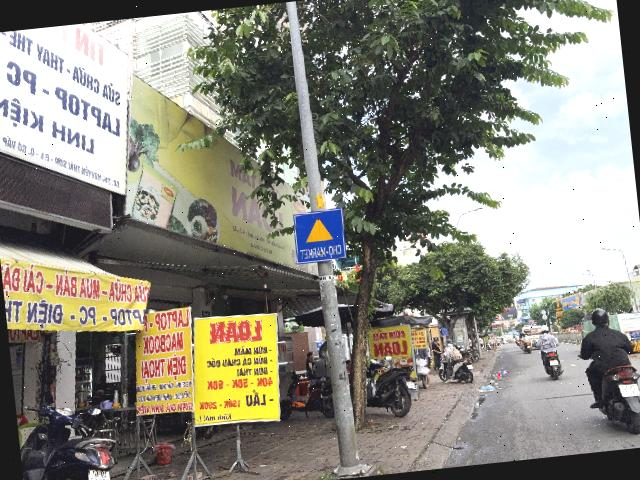khu-vuc-cho-phia-truoc: (292, 207, 348, 265)
